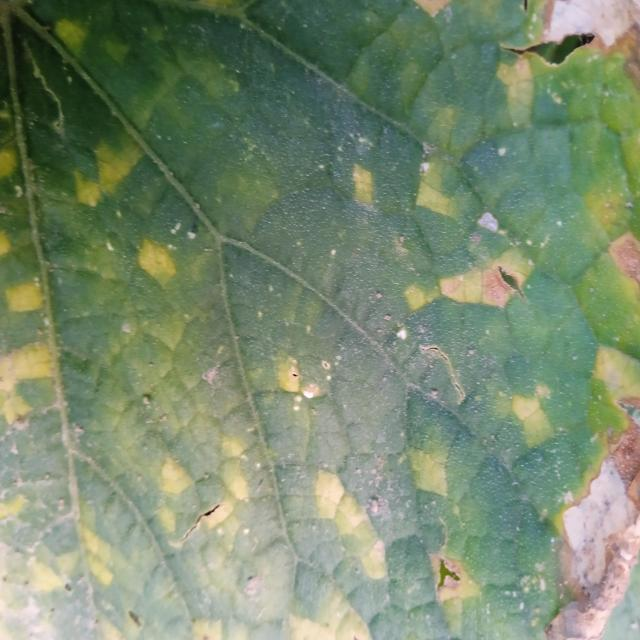cucumber_downy: (2, 5, 640, 640)
